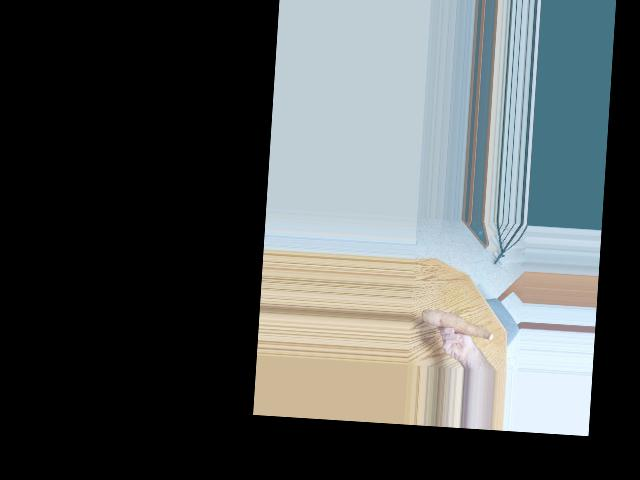sweet_potato: (422, 306, 495, 343)
